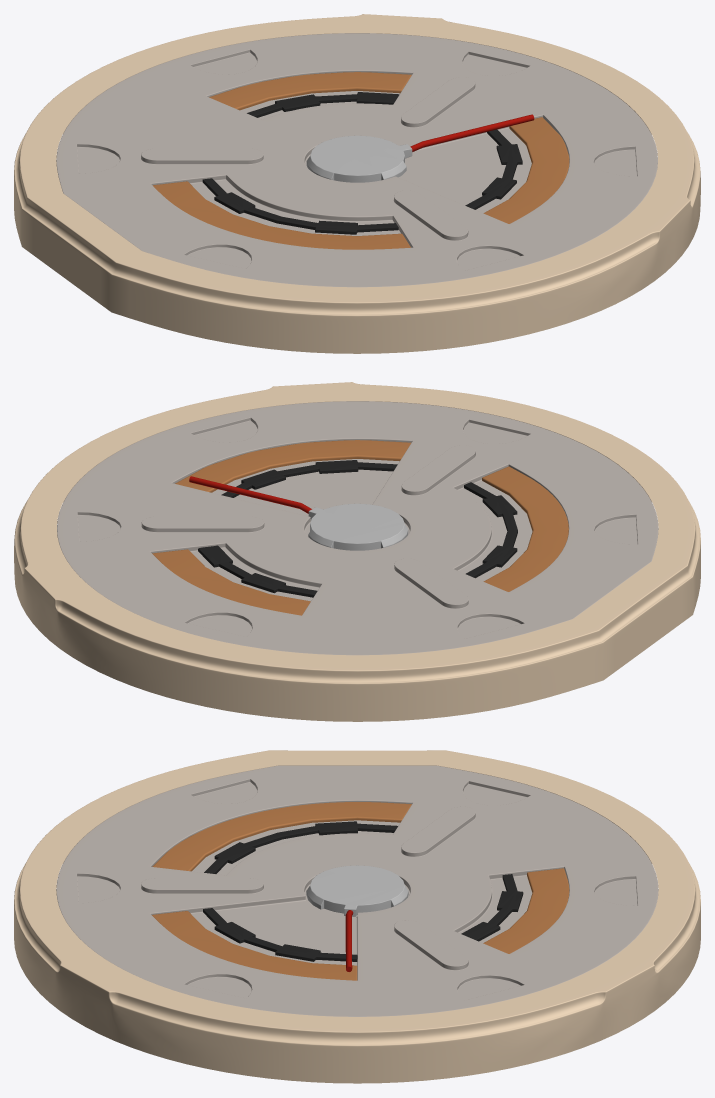
The model's file is DockingBayDoor.fbx.
3 renders of one model, top to bottom at view 1: azimuth 30°, elevation 25°; view 2: azimuth 150°, elevation 25°; view 3: azimuth 270°, elevation 25°, orthographic.
Visible parts, largest first — view 1: Circle.001, Circle, Circle.003, Circle.004, Circle.005, Cylinder; view 2: Circle.001, Circle, Circle.003, Circle.004, Circle.005, Cylinder; view 3: Circle.001, Circle, Circle.003, Circle.004, Circle.005.
Boxes of the visible parts, box(x1,y1,x2,y2) form: Circle.001: box(56, 33, 657, 287); Circle: box(14, 14, 700, 353); Circle.003: box(153, 72, 569, 249); Circle.004: box(202, 92, 522, 234); Circle.005: box(306, 135, 412, 182); Cylinder: box(410, 114, 534, 151); Circle.001: box(57, 401, 658, 655); Circle: box(14, 382, 700, 721); Circle.003: box(152, 440, 568, 615); Circle.004: box(198, 460, 517, 597); Circle.005: box(308, 503, 408, 550); Cylinder: box(189, 476, 311, 513); Circle.001: box(56, 765, 658, 1016); Circle: box(14, 750, 700, 1083); Circle.003: box(152, 802, 569, 980); Circle.004: box(203, 821, 523, 961); Circle.005: box(306, 865, 408, 916).
Bounding box in the file's own units: 193 × 17.38 × 195.
